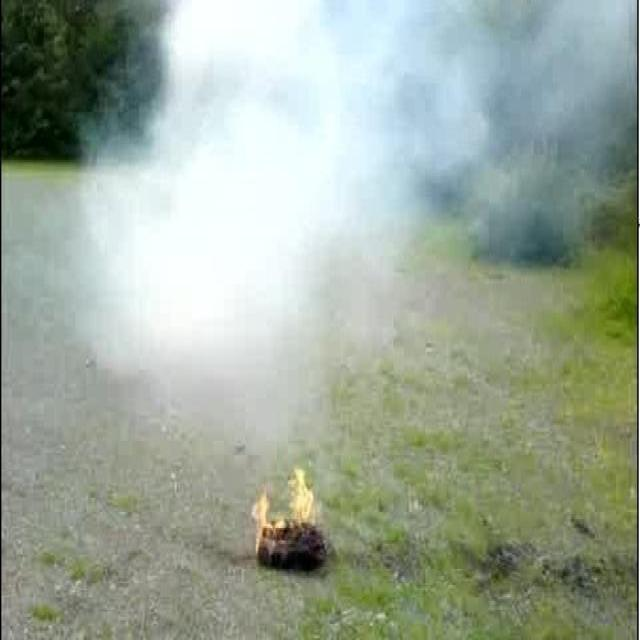Fire: (251, 465, 314, 555)
Smoke: (73, 0, 636, 444)
